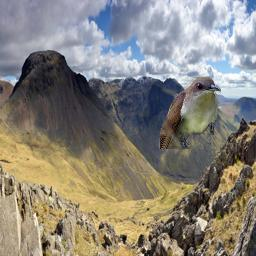Cuckoo: (159, 77, 221, 149)
